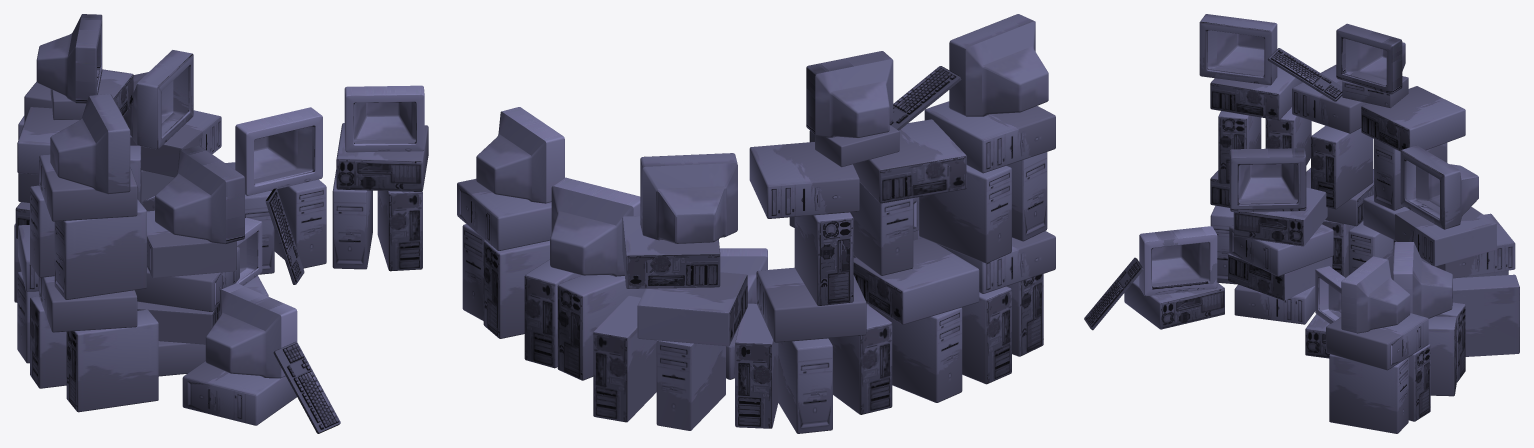
Rendered from computers.glb.
3 views of the same model, side by side, from view 1: azimuth 30°, elevation 25°; view 2: azimuth 150°, elevation 25°; view 3: azimuth 270°, elevation 25° (orthographic). The views are drawn at different scales.
Parts seen in each view (by area): view 1: computers, monitor3, monitor5, monitor7, monitor1, monitor8, monitor4, monitor2, monitor6; view 2: computers, monitor4, monitor1, monitor7, monitor2, monitor8, monitor6; view 3: computers, monitor5, monitor3, monitor1, monitor4, monitor8, monitor2, monitor7, monitor6.
Boxes of the visible parts, left/top/right/bottom form: computers: left=14, top=69, right=428, bottom=433; monitor3: left=155, top=145, right=244, bottom=244; monitor5: left=205, top=283, right=297, bottom=378; monitor7: left=235, top=107, right=322, bottom=195; monitor1: left=50, top=94, right=130, bottom=194; monitor8: left=344, top=85, right=424, bottom=152; monitor4: left=123, top=50, right=193, bottom=149; monitor2: left=36, top=14, right=102, bottom=103; monitor6: left=235, top=217, right=262, bottom=285; computers: left=457, top=66, right=1055, bottom=433; monitor4: left=640, top=153, right=737, bottom=243; monitor1: left=949, top=14, right=1048, bottom=116; monitor7: left=550, top=177, right=640, bottom=276; monitor2: left=806, top=51, right=893, bottom=137; monitor8: left=476, top=107, right=564, bottom=203; monitor6: left=719, top=248, right=767, bottom=303; computers: left=1084, top=48, right=1519, bottom=433; monitor5: left=1139, top=226, right=1217, bottom=295; monitor3: left=1229, top=148, right=1306, bottom=211; monitor1: left=1199, top=14, right=1277, bottom=85; monitor4: left=1400, top=145, right=1478, bottom=229; monitor8: left=1341, top=256, right=1410, bottom=333; monitor2: left=1336, top=23, right=1405, bottom=94; monitor7: left=1393, top=241, right=1452, bottom=318; monitor6: left=1315, top=266, right=1344, bottom=323.
Size of the model in its own units: 4.75 by 2.97 by 4.49.
Materials: 1 (1 with a texture image).
